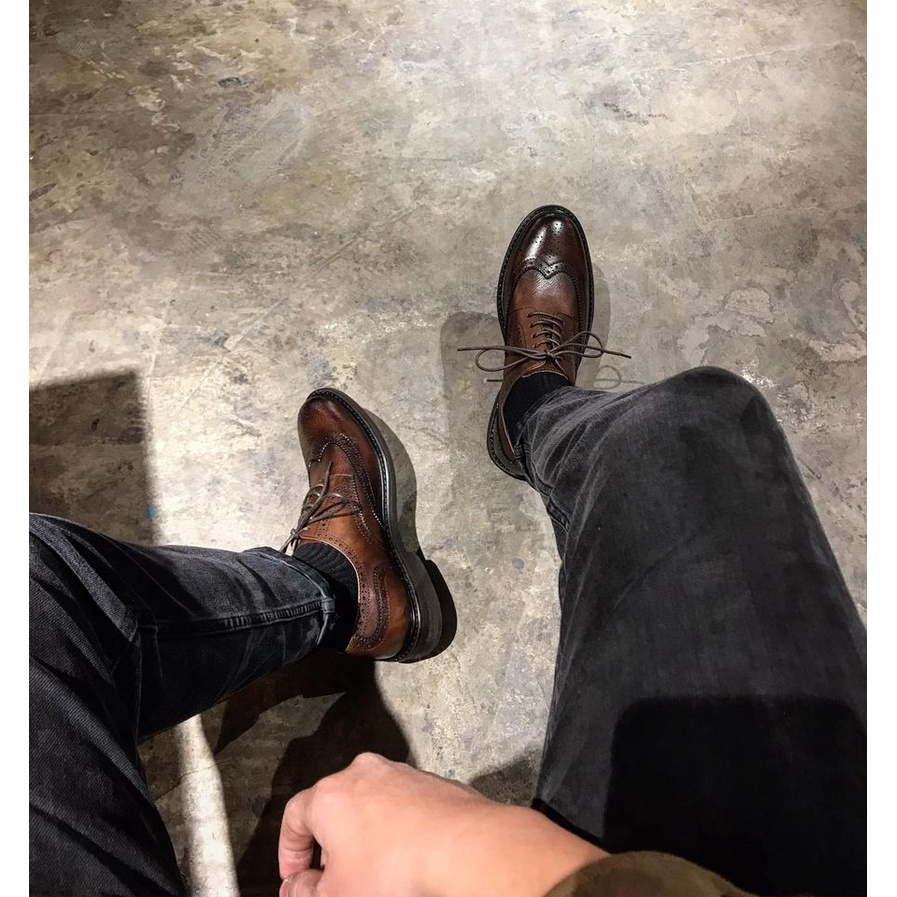derby: (288, 386, 455, 663), (482, 200, 606, 482)
